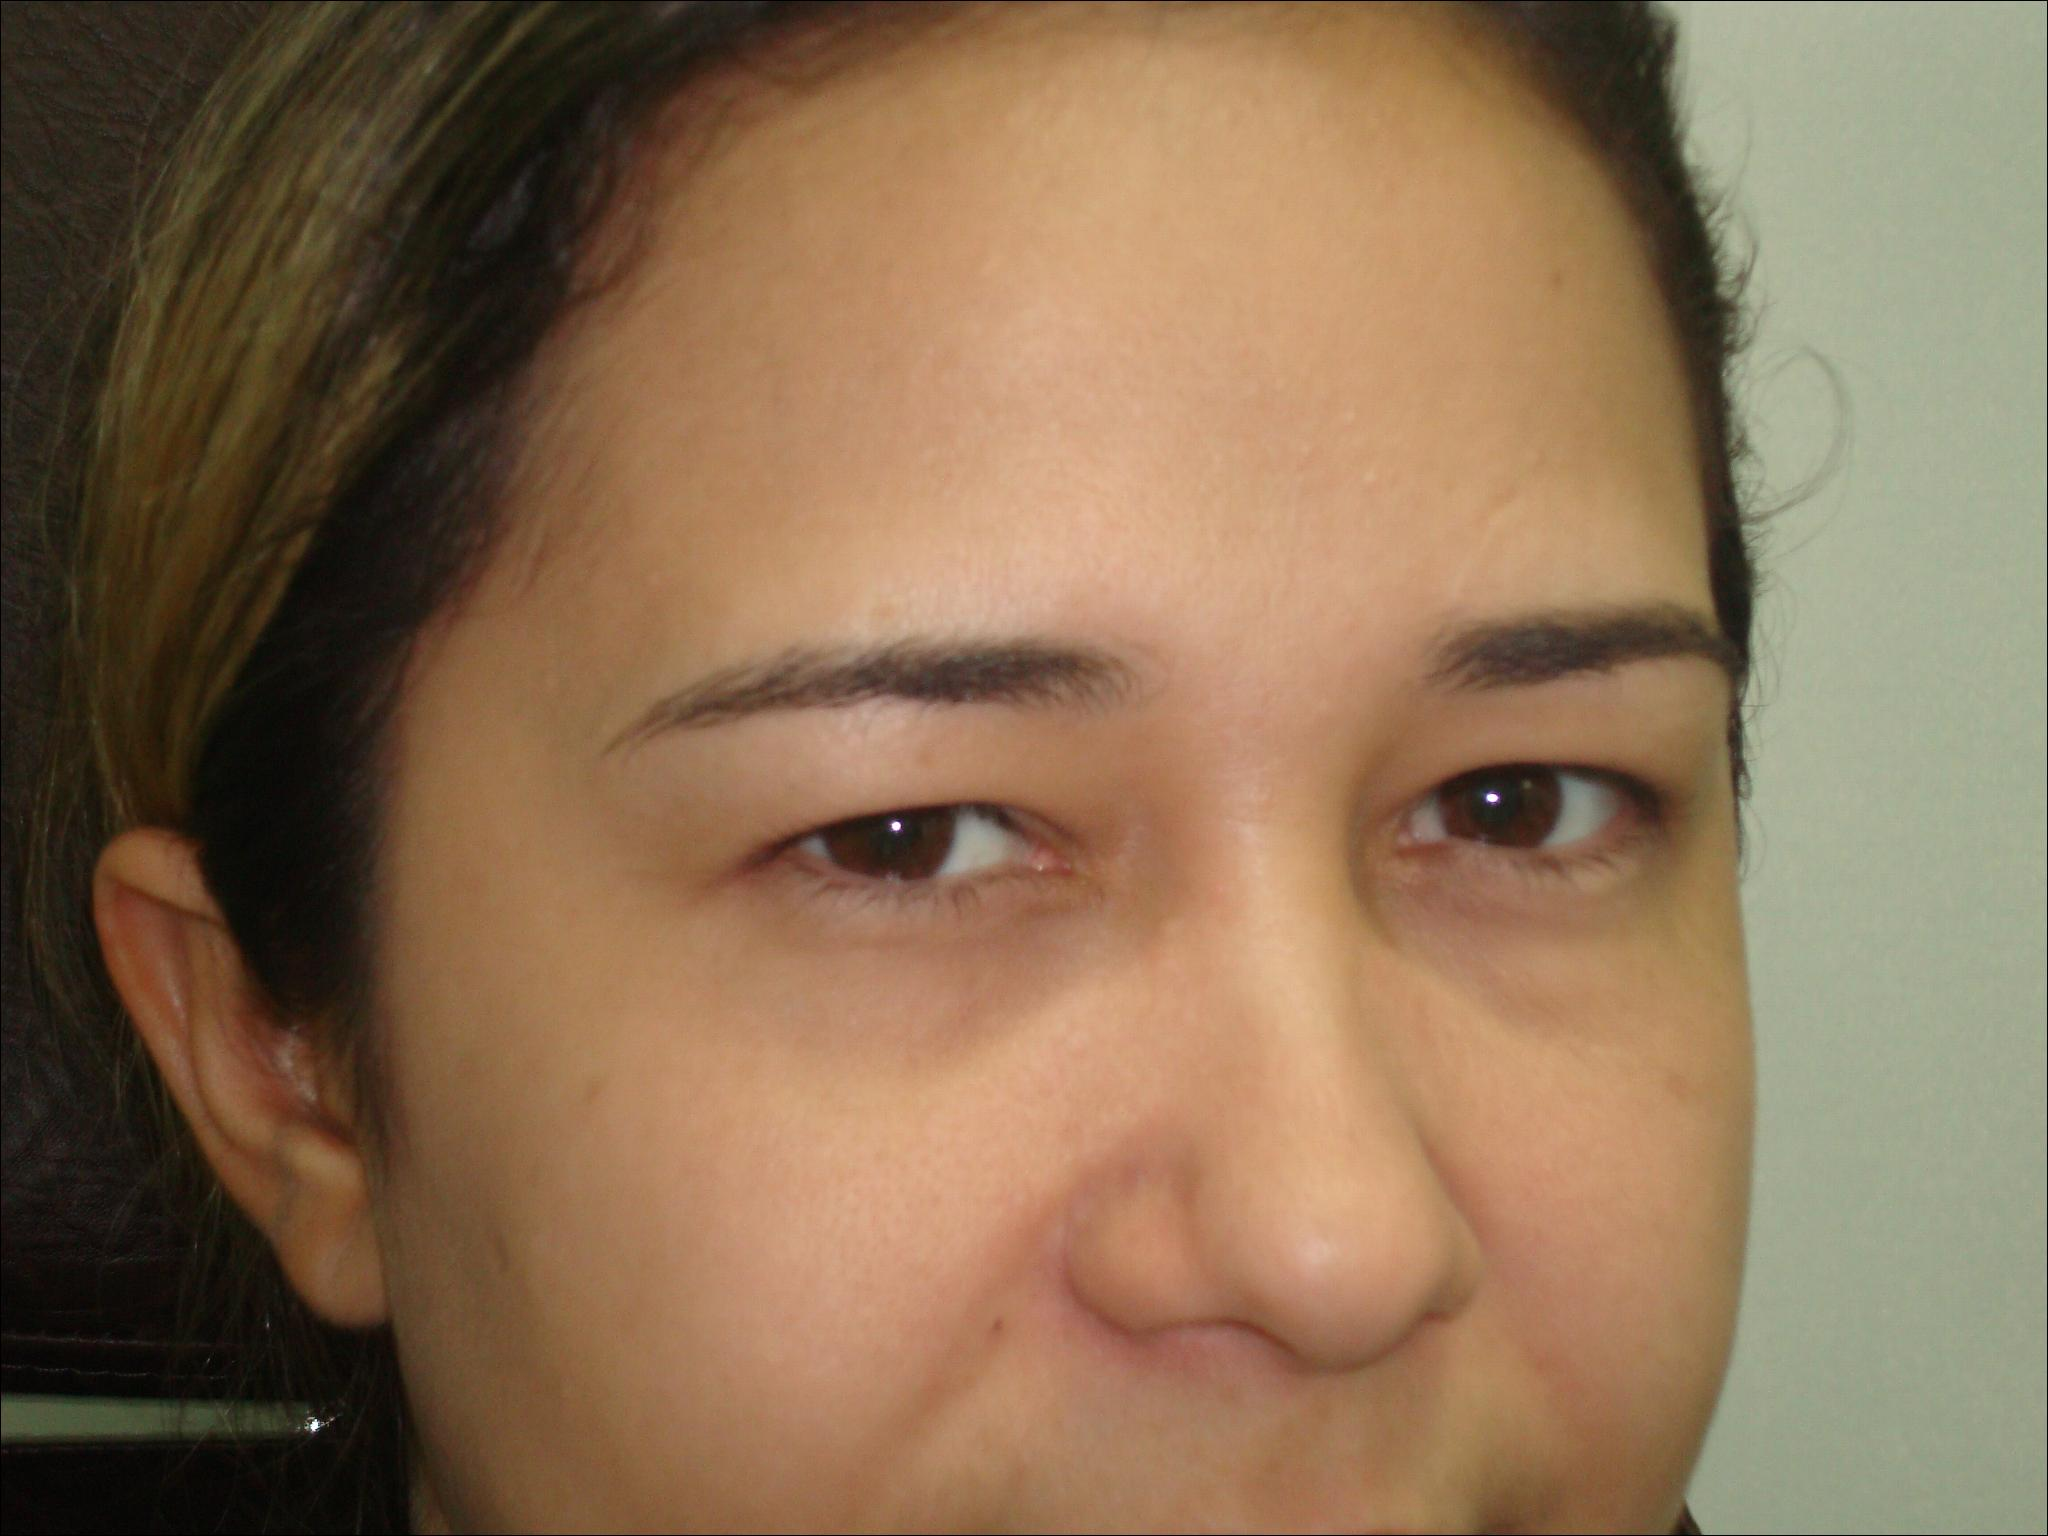flash: (884, 812, 910, 839), (1480, 787, 1505, 807)
limbo: (822, 768, 963, 883), (1430, 741, 1561, 854)
